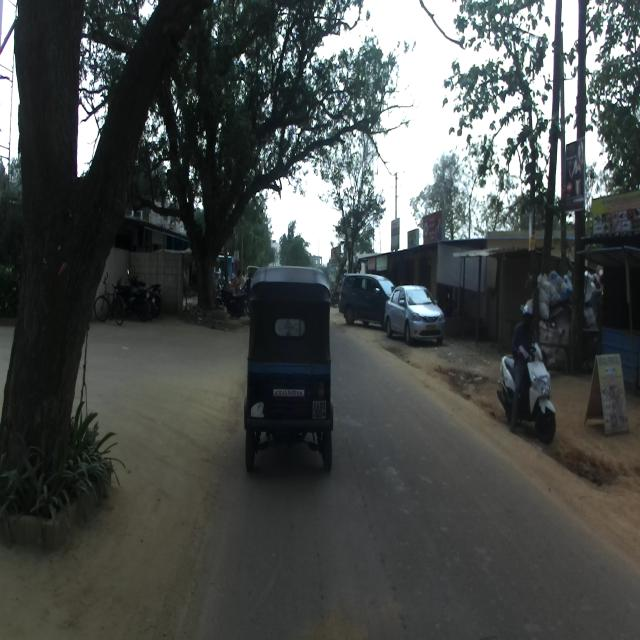auto ahead at: (245, 263, 333, 477)
motorcycle ahead at: (500, 337, 560, 440)
tree ahead at: (0, 0, 130, 539), (172, 151, 240, 315)
